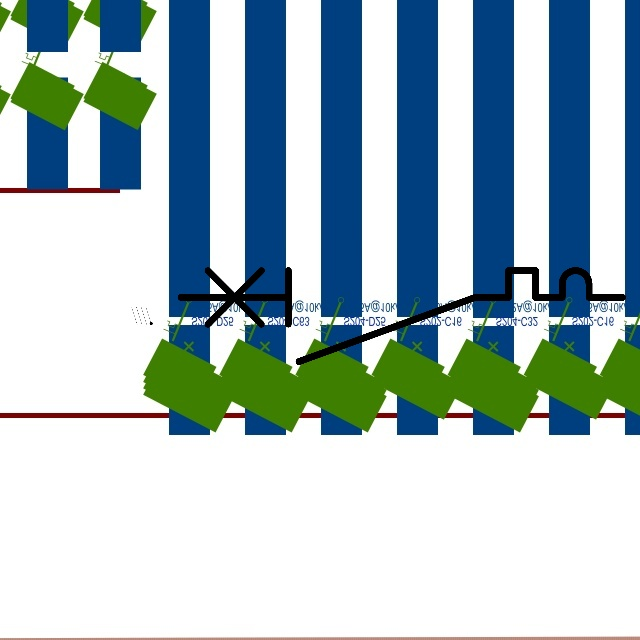interruptor_termomagnetico: (169, 259, 634, 373)
